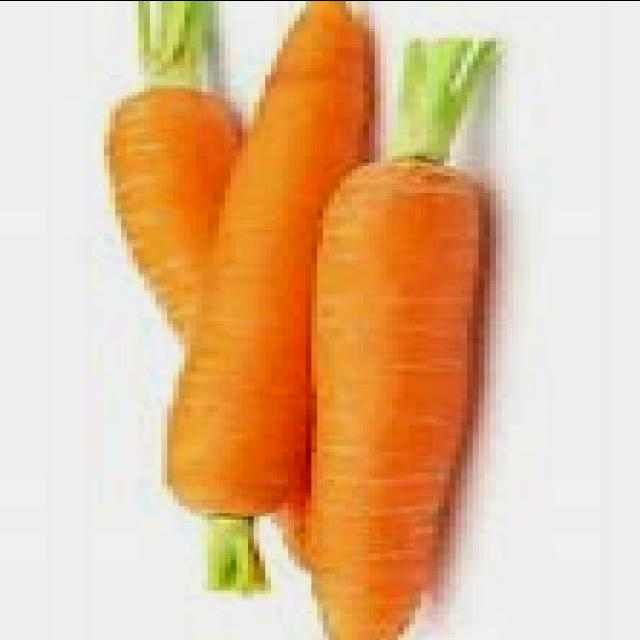carrot: (165, 0, 378, 522), (298, 159, 498, 640)
